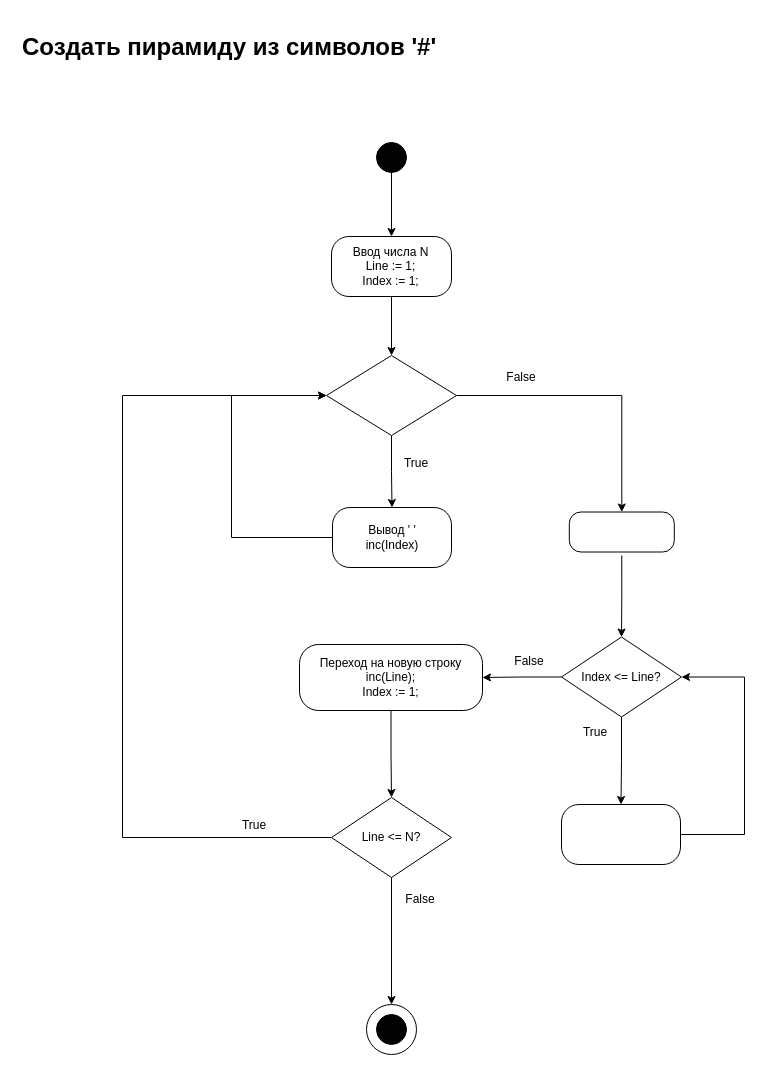
This 770x1072 diagram has some shape labels left out. The shapes that lost their labels are listed below. From the top down, each one's centre as x and y in pixels, then its label:
At (391,395): "Index <= N - Line?".
At (621,531): "Index := 1;".
At (620,834): "Вывод '# ' inc(Index)".
